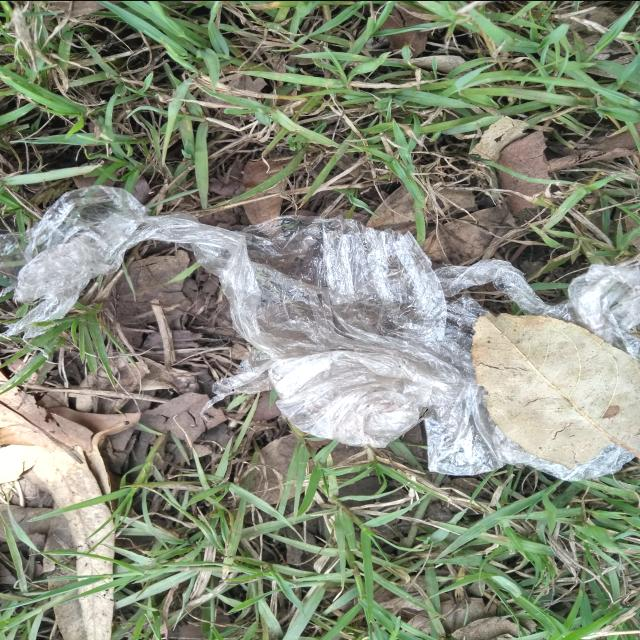Plastic film: (0, 184, 640, 481)
